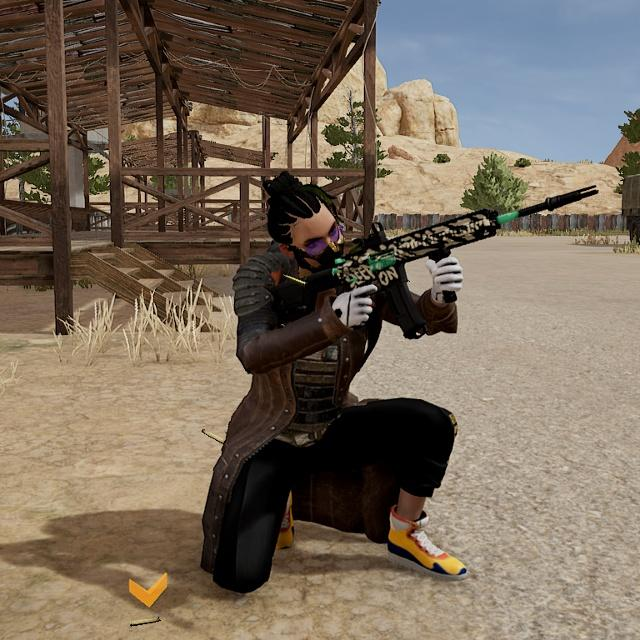head: (265, 179, 347, 277)
people: (199, 170, 480, 597)
